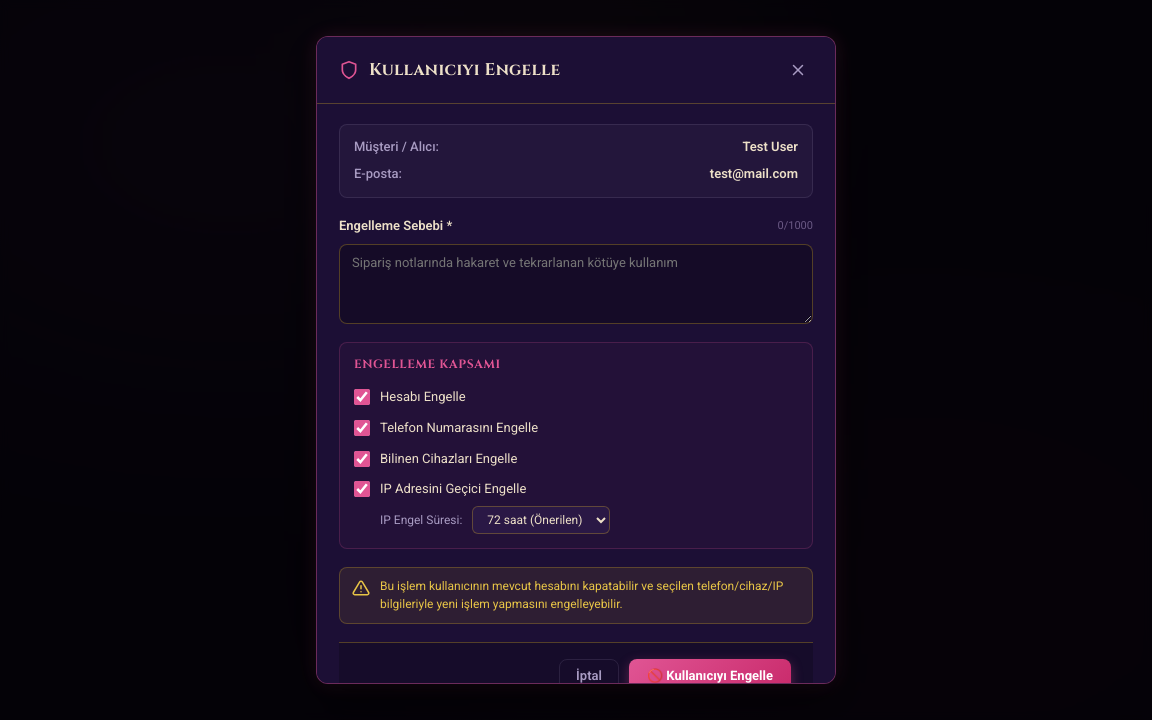
Test case: Muhristan Anti-Abuse & Ban Frontend Integration Test Suite › E, F, G, H, I, K: AbuseBanModal Controls & Flows › G: Tüm scopes kapatıldığında POST gönderilmez
This screenshot has width=1152, height=720.
Sebep yaz
In the text box with placeholder "Sipariş notlarında hakaret ve tekrarlanan kötüye kullanım": (576, 284) [339,244,813,324], type "Kural ihlali"
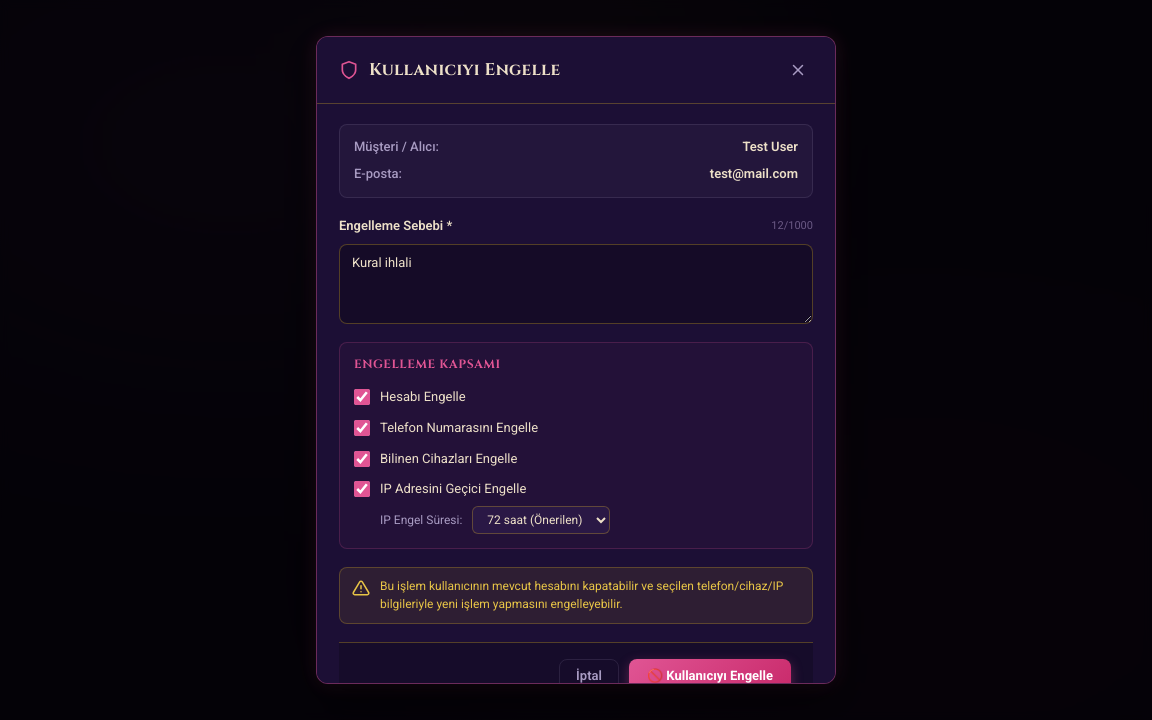
Bütün checkboxları kapat
Click the checkbox labelled "Hesabı Engelle": click(362, 397) [354,389,370,405]
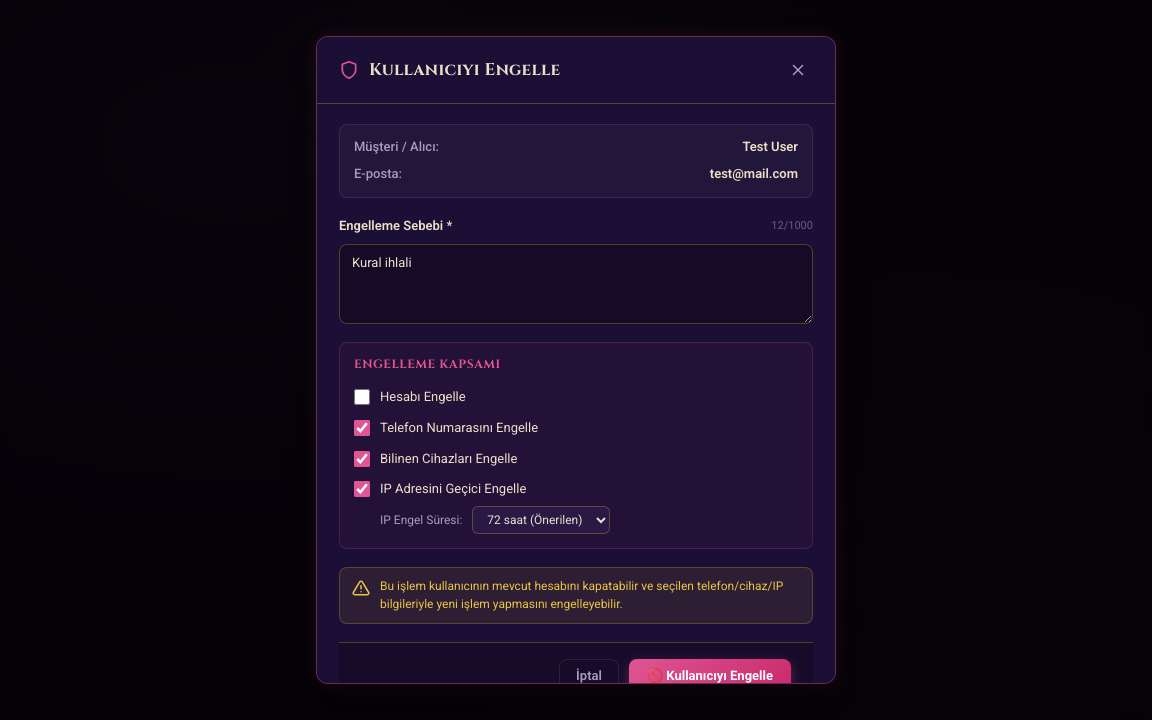
Click the checkbox labelled "Telefon Numarasını Engelle": click(362, 428) [354,420,370,436]
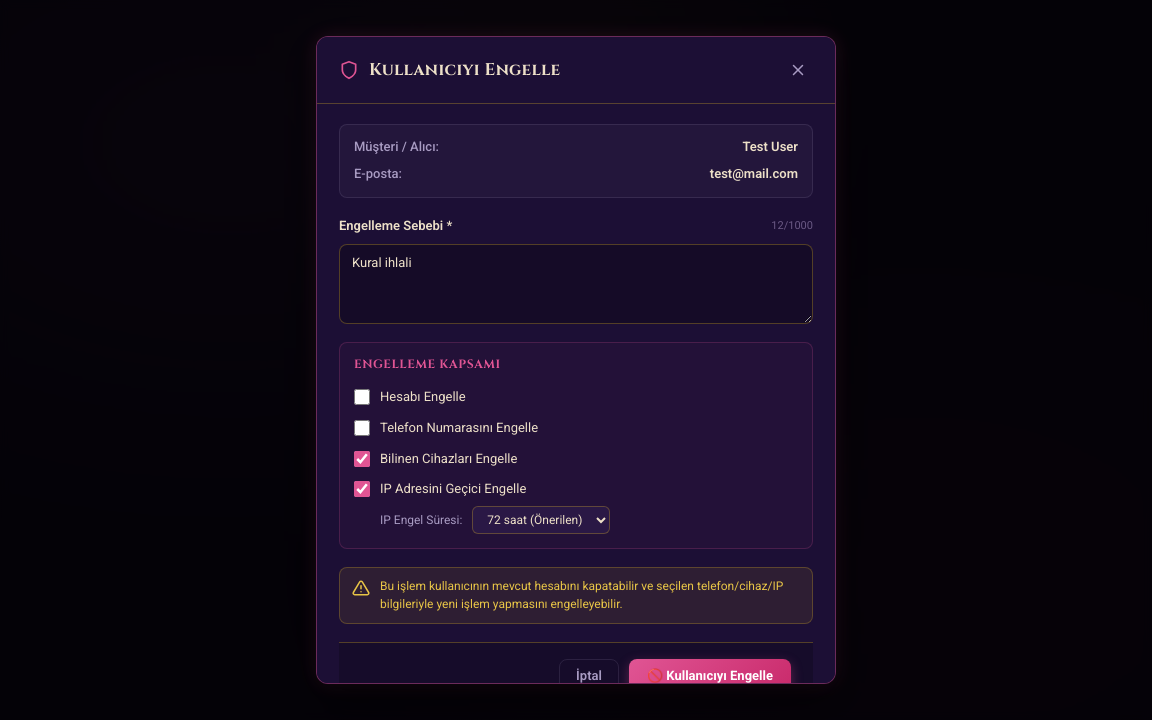
Click the checkbox labelled "Bilinen Cihazları Engelle": click(362, 459) [354,451,370,467]
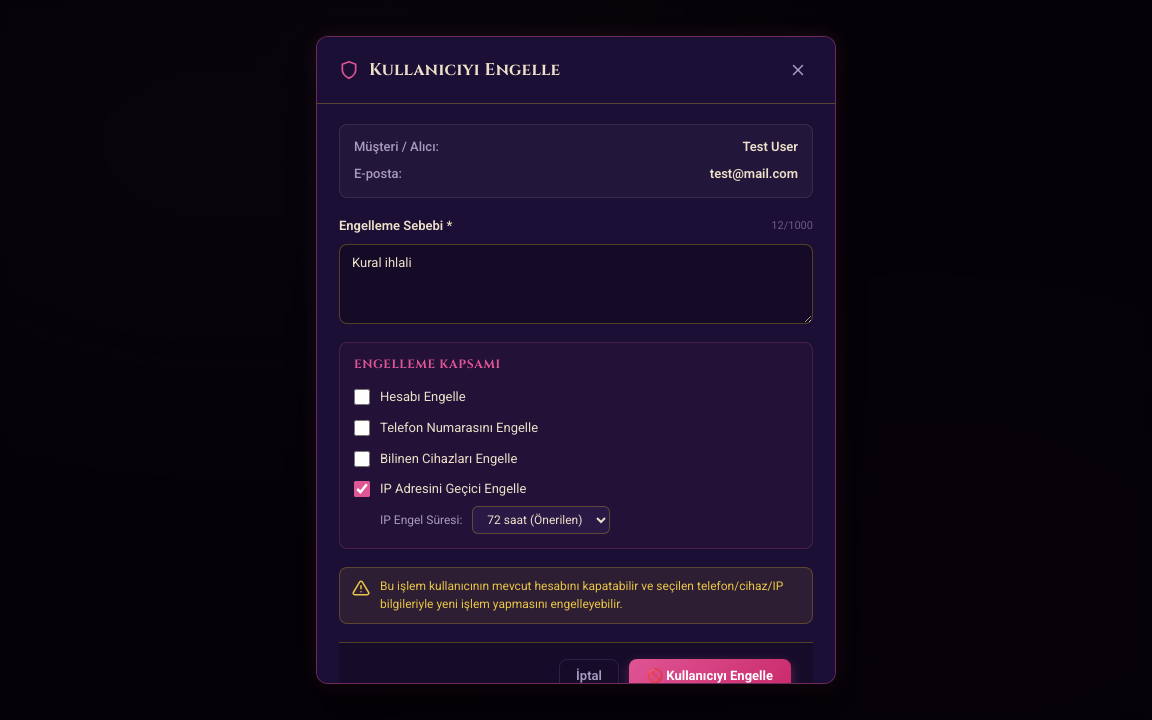
Click the checkbox labelled "IP Adresini Geçici Engelle": click(362, 489) [354,481,370,497]
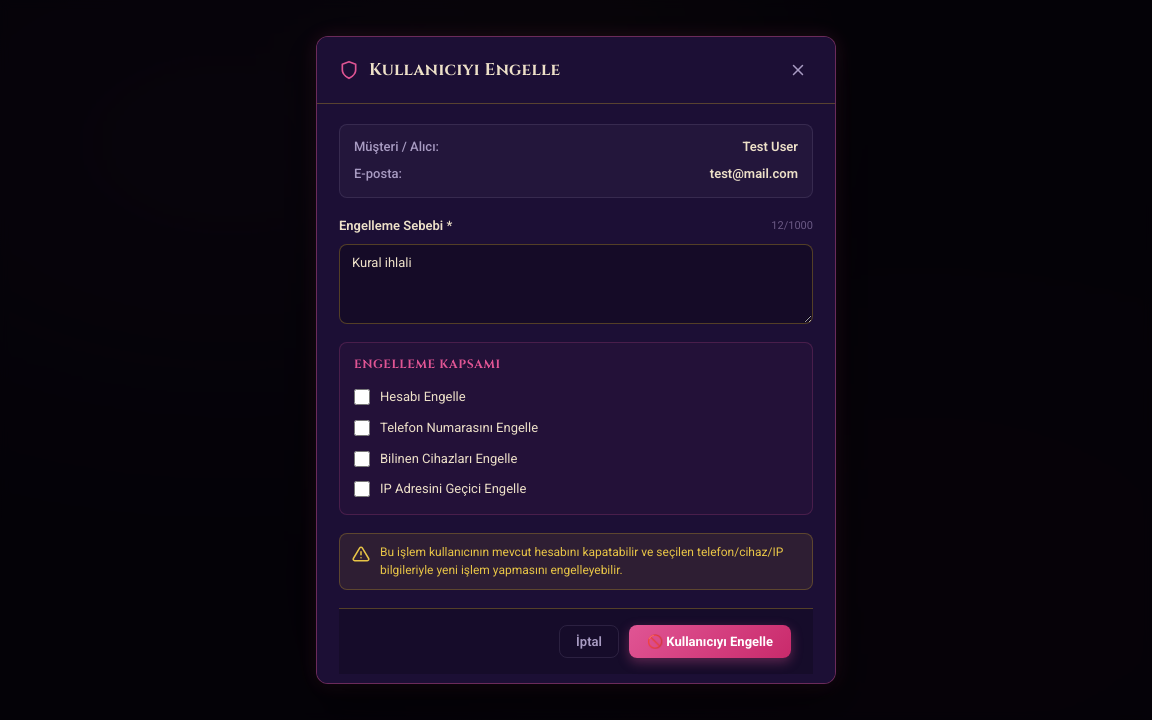
Click the button "🚫 Kullanıcıyı Engelle": click(710, 642) [629,625,791,658]
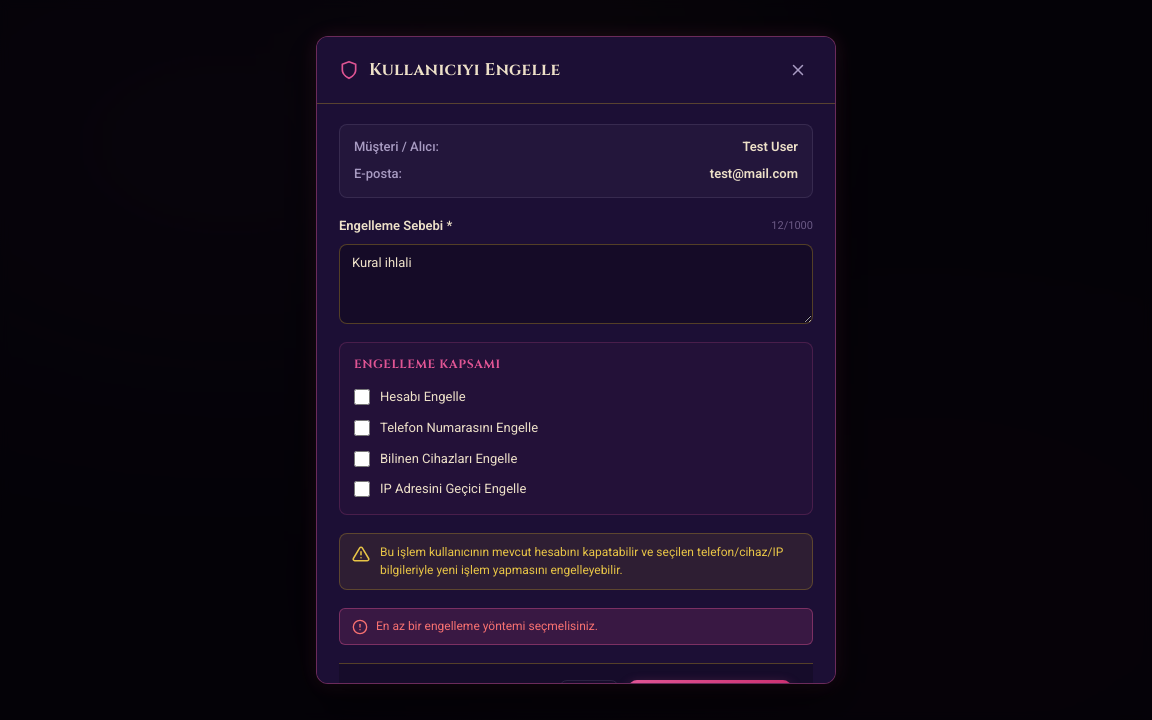
Now the text "En az bir engelleme yöntemi seçmelisiniz." is shown, box [376,617,598,636]
